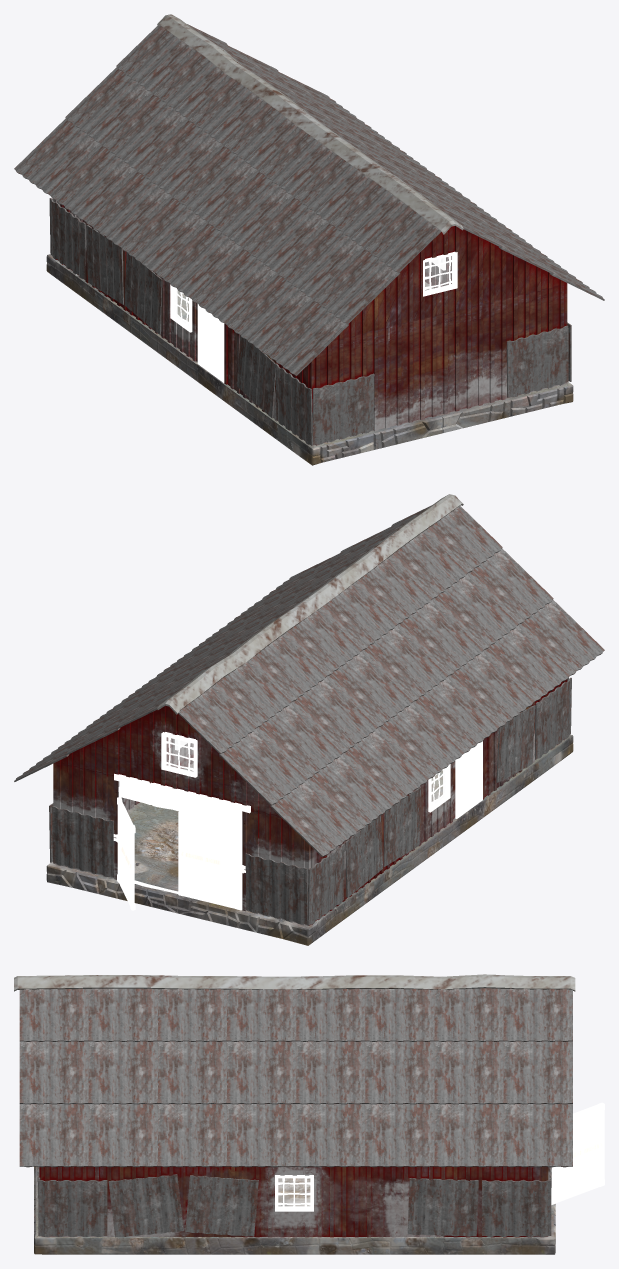
File: barn.glb
3 views of the same model, one above another, from view 1: azimuth 30°, elevation 25°; view 2: azimuth 150°, elevation 25°; view 3: azimuth 270°, elevation 25° (orthographic).
Bounding box in the file's own units: 5.97 × 4.05 × 10.
2 materials, 2 textured.
